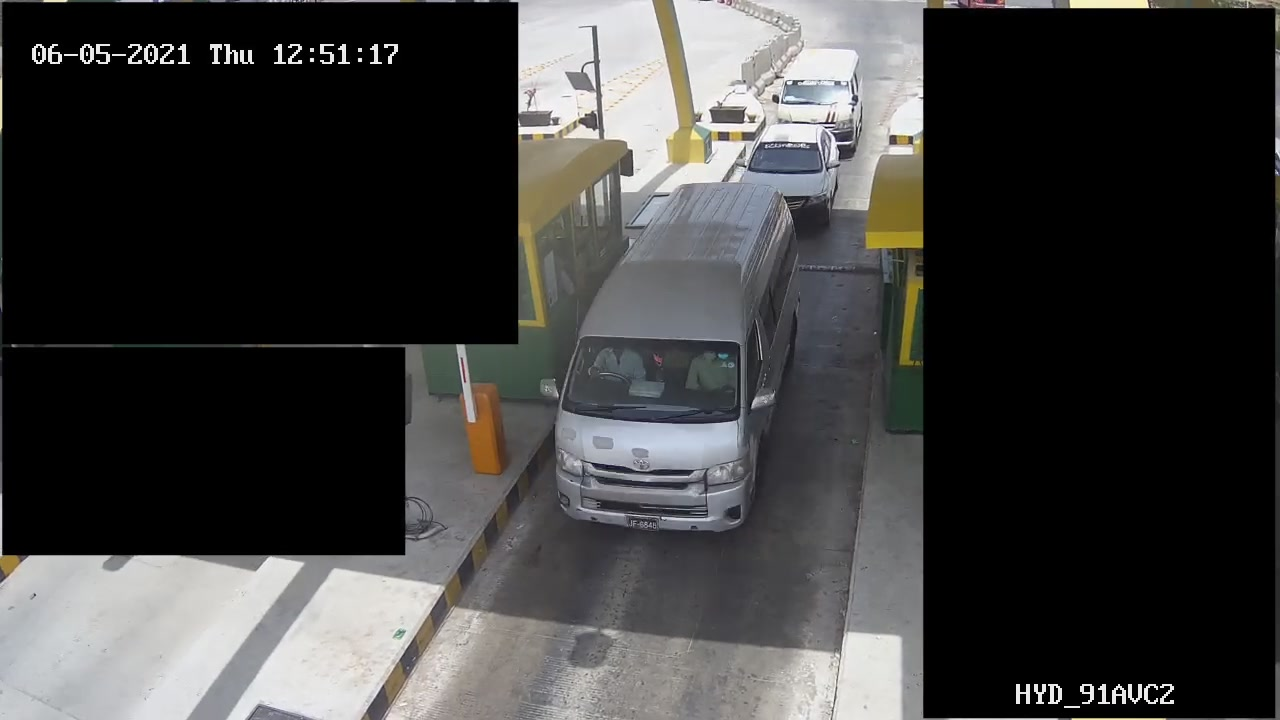F2: (554, 184, 805, 529)
